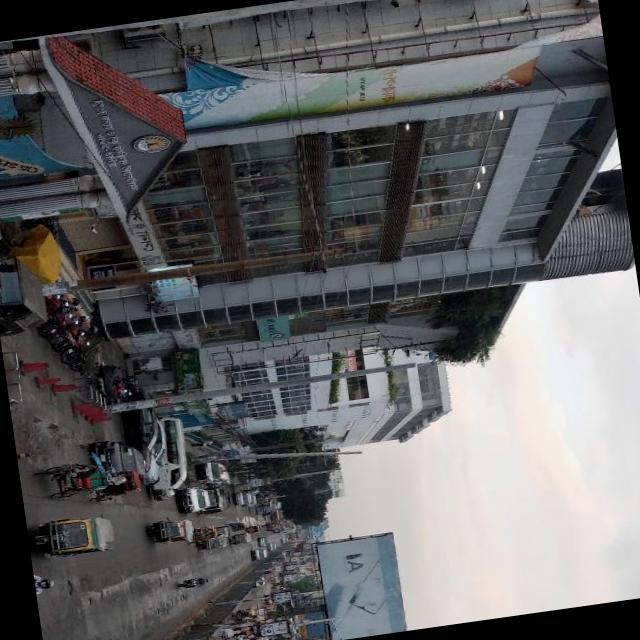car: (124, 388, 162, 472), (136, 418, 173, 485), (254, 577, 266, 589), (260, 538, 270, 546), (268, 544, 276, 552), (257, 637, 271, 640)
motorcycle: (31, 511, 116, 562), (36, 459, 110, 502), (90, 472, 144, 504), (68, 330, 102, 376), (40, 292, 71, 342), (148, 518, 197, 548), (100, 365, 133, 407), (51, 304, 79, 353), (58, 325, 89, 368), (196, 526, 220, 544), (200, 537, 228, 552), (180, 578, 209, 591), (234, 534, 254, 548), (236, 606, 256, 618), (218, 527, 235, 540), (230, 522, 247, 534), (247, 525, 261, 535), (274, 586, 282, 591)
truck: (143, 415, 196, 503), (0, 247, 49, 338), (95, 437, 148, 481), (178, 484, 228, 519), (198, 462, 230, 486), (236, 492, 253, 508), (254, 550, 268, 562), (272, 510, 284, 523), (258, 506, 268, 516), (289, 533, 300, 540)
